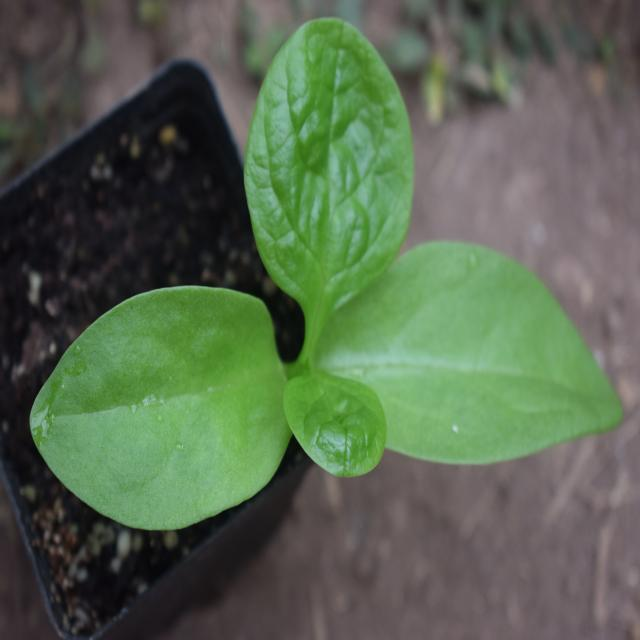Ceylon spinach: (57, 58, 620, 572)
